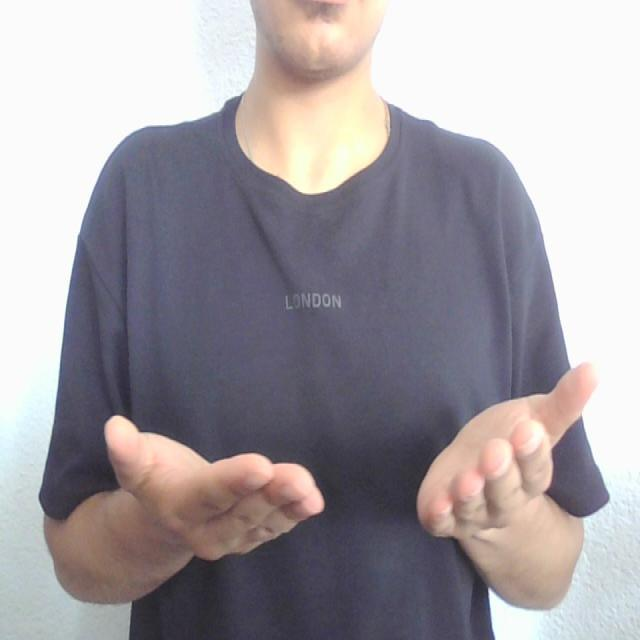Evet: (101, 355, 604, 568)
